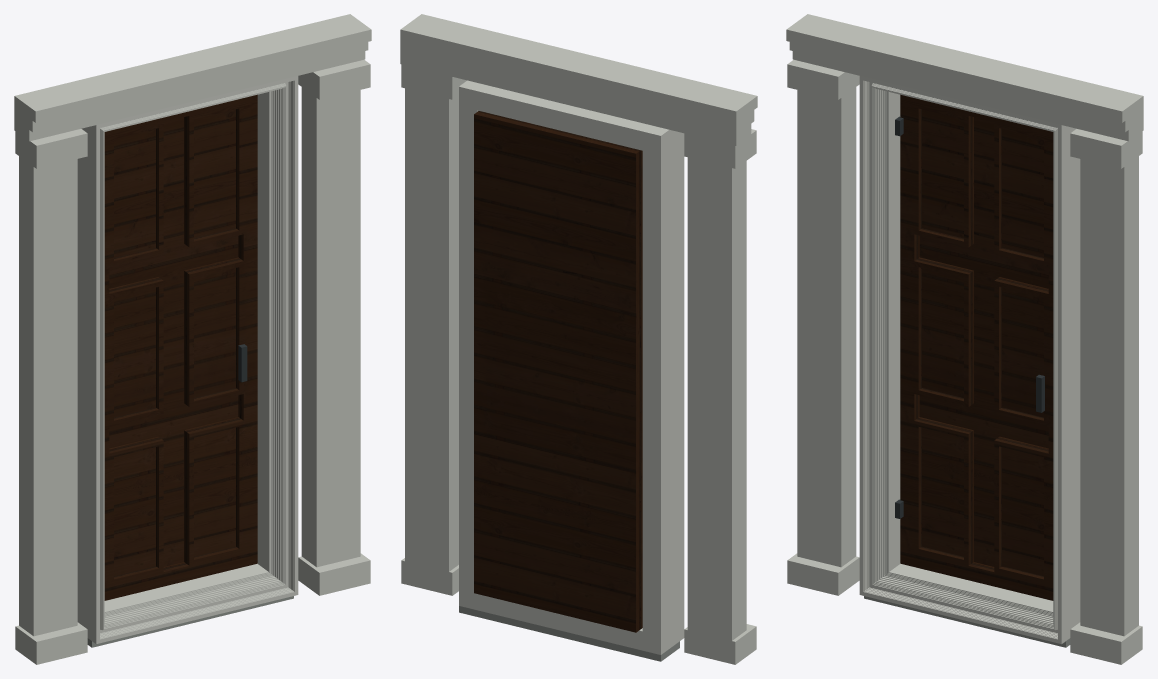
Rendered from republicano_rectangle_puerta.glb.
The picture shows the model from 3 angles, left to right: view 1: azimuth 30°, elevation 25°; view 2: azimuth 150°, elevation 25°; view 3: azimuth 330°, elevation 25°; orthographic projection.
Parts seen in each view (by area): view 1: door_pilaster#0002, door_pilaster#0001, door_panel_back#0001, door_leaf_frame#0001, door_portal_cornice#0003, door_moulding#0028, door_reveal#0001, door_coffer#0005, door_coffer#0004, door_coffer#0006, door_coffer#0002, door_coffer#0001 (+39 smaller); view 2: door_panel_back#0001, door_reveal#0001, door_pilaster#0001, door_pilaster#0002, door_leaf_frame#0001, door_portal_cornice#0003, door_moulding#0028, door_portal_cornice#0002, door_portal_cornice#0001, door_capital#0001, door_capital#0002, door_threshold#0001 (+2 smaller); view 3: door_pilaster#0001, door_pilaster#0002, door_panel_back#0001, door_leaf_frame#0001, door_portal_cornice#0003, door_moulding#0028, door_reveal#0001, door_coffer#0002, door_coffer#0001, door_coffer#0003, door_coffer#0004, door_coffer#0006 (+39 smaller).
Boxes of the visible parts, x1,y1,x2,y2 form: door_pilaster#0002: [301, 87, 360, 567]; door_pilaster#0001: [19, 156, 77, 636]; door_panel_back#0001: [109, 117, 238, 566]; door_leaf_frame#0001: [104, 94, 257, 600]; door_portal_cornice#0003: [14, 14, 371, 122]; door_moulding#0028: [81, 76, 298, 643]; door_reveal#0001: [77, 92, 266, 624]; door_coffer#0005: [184, 257, 240, 404]; door_coffer#0004: [184, 417, 240, 563]; door_coffer#0006: [184, 109, 235, 244]; door_coffer#0002: [109, 277, 159, 417]; door_coffer#0001: [109, 436, 159, 576]; door_panel_back#0001: [488, 132, 622, 614]; door_reveal#0001: [459, 80, 670, 654]; door_pilaster#0001: [687, 134, 746, 663]; door_pilaster#0002: [405, 65, 458, 594]; door_leaf_frame#0001: [474, 111, 642, 632]; door_portal_cornice#0003: [400, 14, 757, 122]; door_moulding#0028: [669, 130, 684, 648]; door_portal_cornice#0002: [400, 41, 754, 134]; door_portal_cornice#0001: [400, 52, 751, 145]; door_capital#0001: [684, 624, 756, 664]; door_capital#0002: [684, 129, 756, 168]; door_threshold#0001: [459, 606, 679, 661]; door_pilaster#0001: [797, 87, 856, 567]; door_pilaster#0002: [1080, 156, 1138, 636]; door_panel_back#0001: [919, 117, 1048, 566]; door_leaf_frame#0001: [900, 94, 1053, 600]; door_portal_cornice#0003: [786, 14, 1143, 122]; door_moulding#0028: [859, 76, 1076, 643]; door_reveal#0001: [891, 92, 1080, 624]; door_coffer#0002: [917, 257, 973, 404]; door_coffer#0001: [917, 417, 973, 563]; door_coffer#0003: [922, 109, 973, 244]; door_coffer#0004: [998, 436, 1048, 576]; door_coffer#0006: [1002, 129, 1043, 257].
Size of the model in its own units: 1.83 by 2.92 by 0.325.
5 materials, 1 textured.
